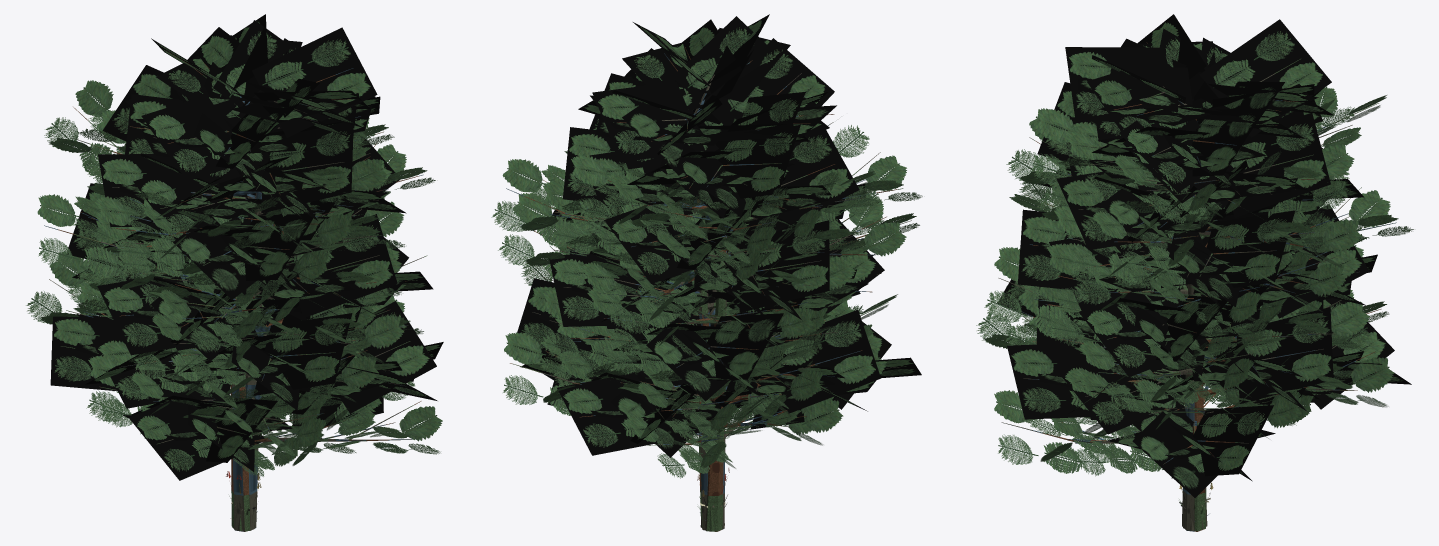
Rendered from kasumi_plants.glb.
3 views of the same model, side by side, from view 1: azimuth 30°, elevation 25°; view 2: azimuth 150°, elevation 25°; view 3: azimuth 270°, elevation 25° (orthographic). The views are drawn at different scales.
Parts seen in each view (by area): view 1: Tree_0_crown, Tree_1_crown, Tree_2_crown, Tree_1_trunk, Tree_2_trunk, Tree_0_trunk; view 2: Tree_0_crown, Tree_1_crown, Tree_2_crown, Tree_2_trunk, Tree_1_trunk, Tree_0_trunk; view 3: Tree_0_crown, Tree_1_crown, Tree_2_crown, Tree_1_trunk, Tree_0_trunk, Tree_2_trunk.
Boxes of the visible parts, x1=… form: Tree_0_crown: x1=50, y1=14, x2=443, y2=480; Tree_1_crown: x1=37, y1=80, x2=442, y2=465; Tree_2_crown: x1=26, y1=120, x2=435, y2=476; Tree_1_trunk: x1=44, y1=107, x2=421, y2=530; Tree_2_trunk: x1=49, y1=143, x2=427, y2=531; Tree_0_trunk: x1=61, y1=50, x2=430, y2=530; Tree_0_crown: x1=515, y1=14, x2=921, y2=457; Tree_1_crown: x1=491, y1=142, x2=919, y2=447; Tree_2_crown: x1=498, y1=125, x2=922, y2=478; Tree_2_trunk: x1=510, y1=152, x2=903, y2=531; Tree_1_trunk: x1=506, y1=122, x2=911, y2=531; Tree_0_trunk: x1=532, y1=36, x2=906, y2=531; Tree_0_crown: x1=997, y1=14, x2=1411, y2=497; Tree_1_crown: x1=976, y1=86, x2=1413, y2=476; Tree_2_crown: x1=1006, y1=109, x2=1394, y2=439; Tree_1_trunk: x1=998, y1=103, x2=1396, y2=531; Tree_0_trunk: x1=1023, y1=42, x2=1376, y2=531; Tree_2_trunk: x1=1022, y1=139, x2=1375, y2=530.
Size of the model in its own units: 7.92 by 9.01 by 7.61.
Materials: 7 (7 with a texture image).
